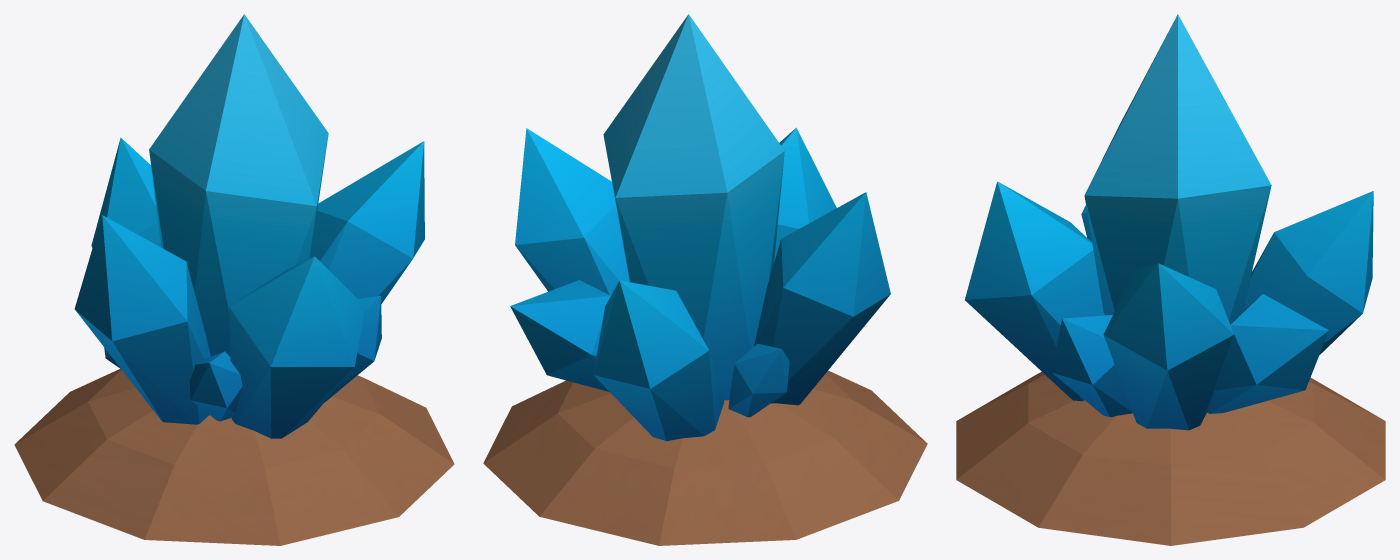
The model's file is Crystal_blue_01.fbx.
The picture shows the model from 3 angles, left to right: view 1: azimuth 30°, elevation 25°; view 2: azimuth 150°, elevation 25°; view 3: azimuth 270°, elevation 25°; orthographic projection.
Visible parts, largest first — view 1: Crystal_blue_01; view 2: Crystal_blue_01; view 3: Crystal_blue_01.
Part boxes in pixels (bbox=[...]): Crystal_blue_01: bbox=[14, 14, 454, 545]; Crystal_blue_01: bbox=[483, 14, 927, 545]; Crystal_blue_01: bbox=[956, 14, 1385, 545].
Bounding box in the file's own units: 130 × 141 × 124.
